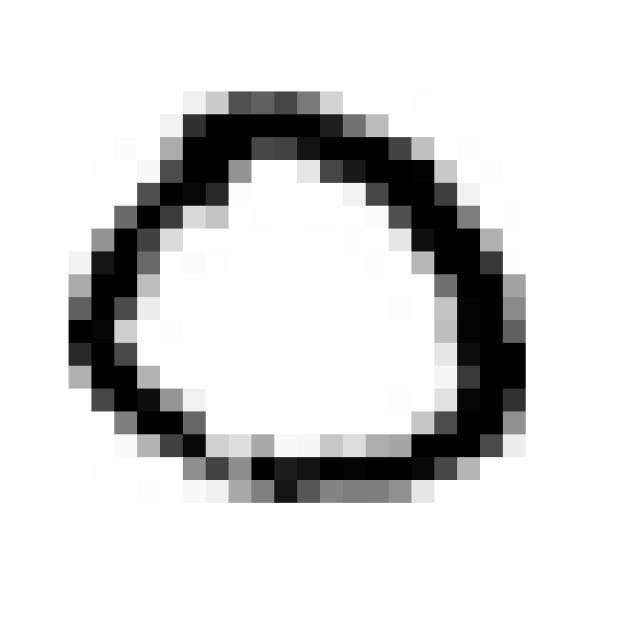5 -five-: (48, 80, 549, 519)
